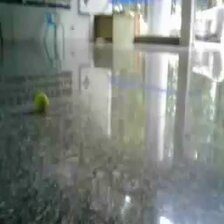tennis: (34, 92, 48, 110)
